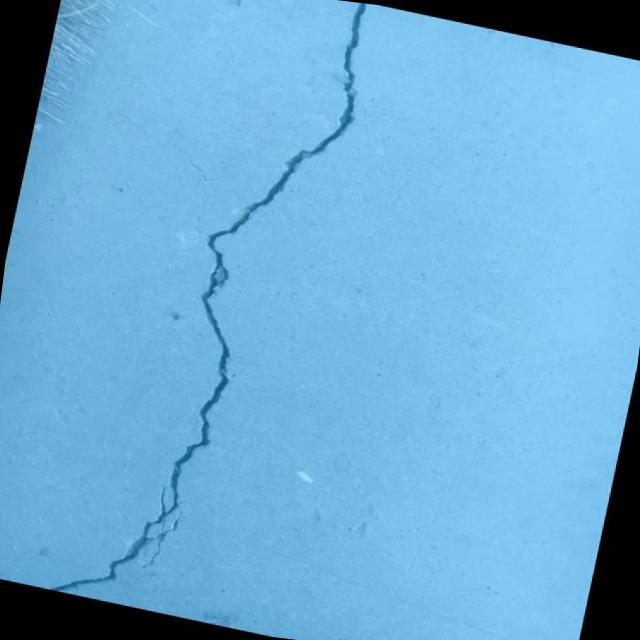crack: (46, 0, 380, 638), (158, 140, 255, 190), (50, 108, 124, 135)
